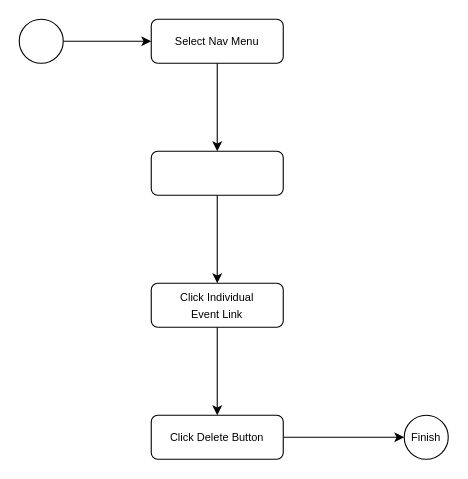
This 468x479 diagram has some shape labels left out. Here are the shapes that lost their labels. From the top down, the centre of each, then its label:
At pixel 40 40: "Start".
At pixel 216 172: "Click Events Link".
